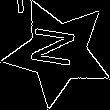N_E: (30, 28, 86, 76)
